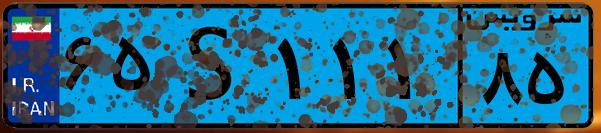1: (270, 28, 330, 110), (385, 28, 445, 110), (330, 28, 385, 110)
5: (525, 38, 570, 115), (110, 28, 158, 98)
6: (57, 26, 110, 100)
8: (475, 38, 525, 113)
S: (158, 12, 270, 120)
